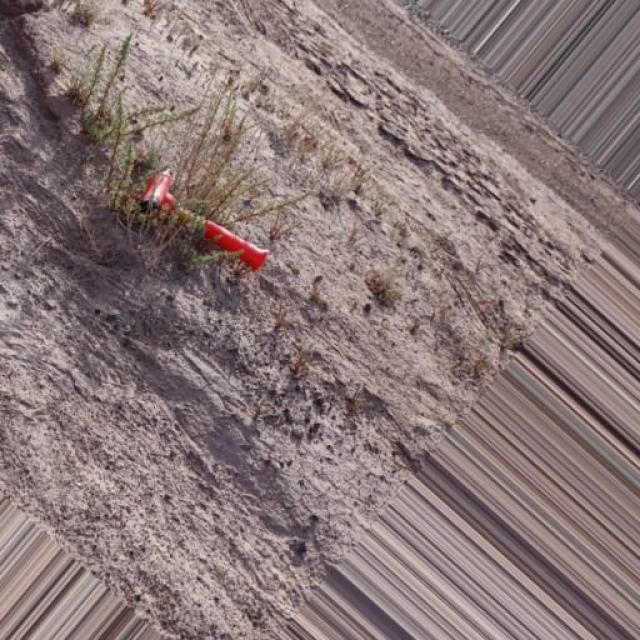mallet: (138, 168, 270, 272)
